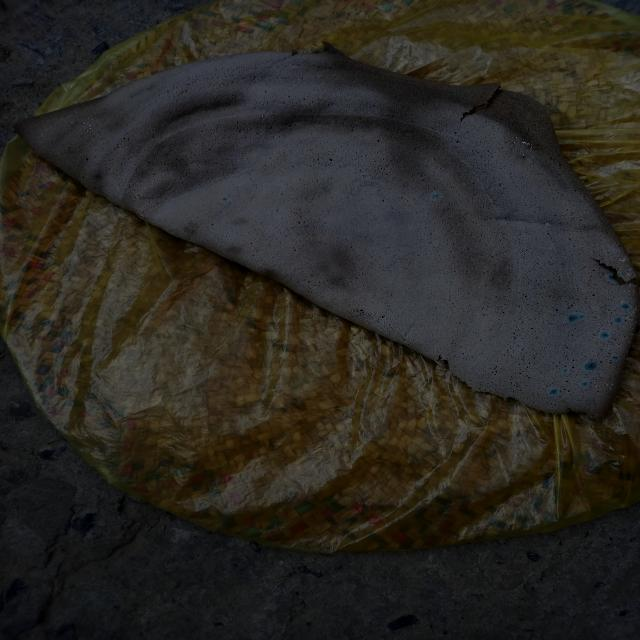injera_mold: (624, 265, 637, 278), (627, 310, 638, 324), (583, 361, 598, 371), (607, 273, 621, 283), (547, 388, 561, 396), (429, 192, 443, 200), (619, 301, 631, 310), (566, 314, 579, 322), (626, 284, 635, 293), (600, 331, 610, 339), (628, 326, 636, 336), (619, 256, 631, 262), (580, 380, 590, 387), (612, 354, 620, 361), (614, 317, 624, 322), (220, 197, 229, 202), (579, 314, 585, 320), (627, 338, 633, 344), (521, 142, 530, 146), (561, 369, 569, 373), (622, 355, 626, 362), (594, 307, 598, 310), (87, 123, 91, 126), (624, 342, 626, 347), (611, 384, 614, 386), (610, 387, 612, 390), (628, 345, 630, 348), (83, 122, 86, 124), (92, 119, 95, 121), (606, 384, 608, 386), (621, 348, 623, 350), (71, 122, 73, 124), (87, 130, 89, 132), (523, 154, 525, 156), (513, 142, 516, 143), (87, 118, 89, 119), (530, 147, 532, 148), (516, 137, 518, 138), (90, 128, 91, 129), (513, 150, 514, 151)
